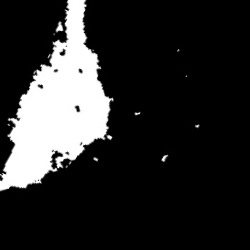pinhole: (163, 155, 169, 162), (134, 112, 141, 116), (194, 124, 198, 128), (94, 158, 98, 161), (177, 49, 180, 52)
spot: (1, 1, 114, 190)
